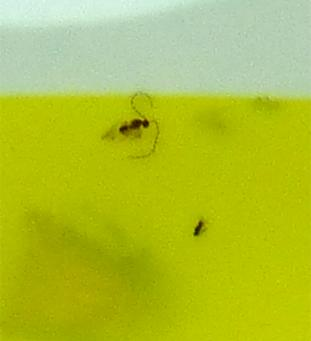Brachycera: (186, 212, 211, 241)
Hymenoptera: (100, 100, 162, 162)
